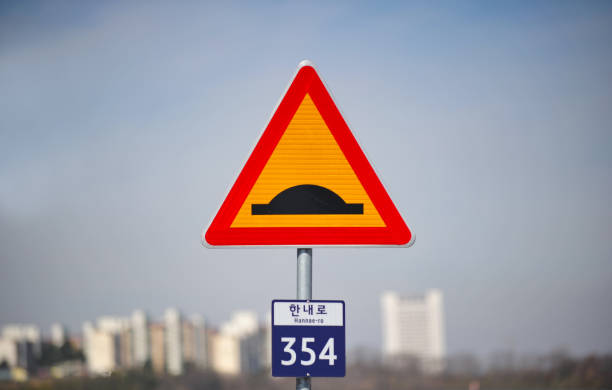speed-breaker: (223, 84, 393, 243)
